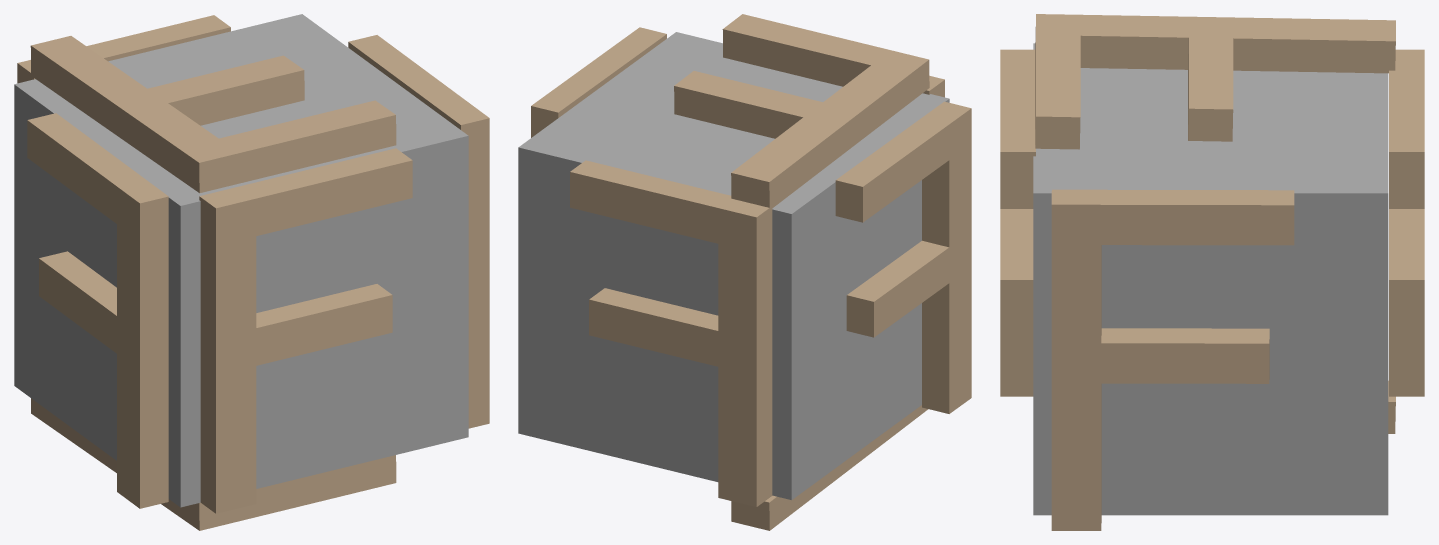
The model's file is LetterF.fbx.
3 renders of one model, left to right at view 1: azimuth 30°, elevation 25°; view 2: azimuth 150°, elevation 25°; view 3: azimuth 270°, elevation 25°, orthographic. The views are drawn at different scales.
Visible parts, largest first — view 1: Box, Text Front, Text Left, Text Top, Text Right, Text Bottom, Text Back; view 2: Box, Text Back, Text Top, Text Left, Text Right, Text Bottom; view 3: Box, Text Right, Text Top, Text Back, Text Front.
Part boxes in pixels (box(x1,y1,x2,y2)): Box: box(14, 14, 468, 507); Text Front: box(199, 148, 412, 513); Text Left: box(27, 113, 168, 508); Text Top: box(30, 36, 396, 193); Text Right: box(348, 35, 489, 428); Text Bottom: box(31, 398, 396, 530); Text Back: box(17, 15, 230, 83); Box: box(518, 32, 949, 500); Text Back: box(570, 160, 772, 506); Text Top: box(674, 14, 929, 209); Text Left: box(835, 101, 971, 413); Text Right: box(531, 27, 666, 137); Text Bottom: box(731, 405, 928, 530); Box: box(1033, 43, 1388, 515); Text Right: box(1051, 189, 1294, 530); Text Top: box(1035, 14, 1395, 149); Text Back: box(1389, 49, 1424, 396); Text Front: box(1000, 49, 1035, 396).
Size of the model in its own units: 1.22 by 1.24 by 1.19.
